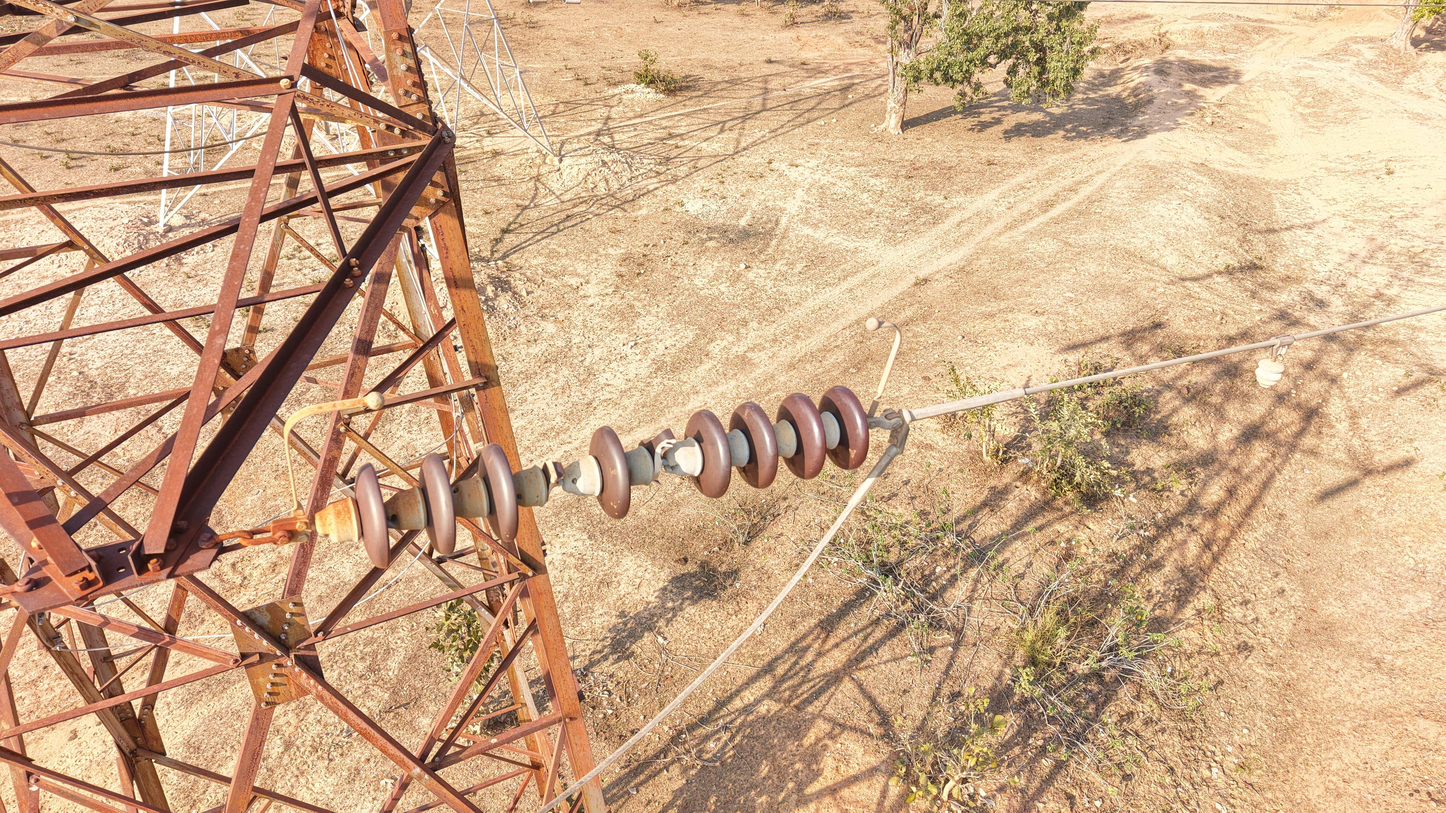broken_insulator: (532, 446, 585, 501), (640, 418, 686, 479)
